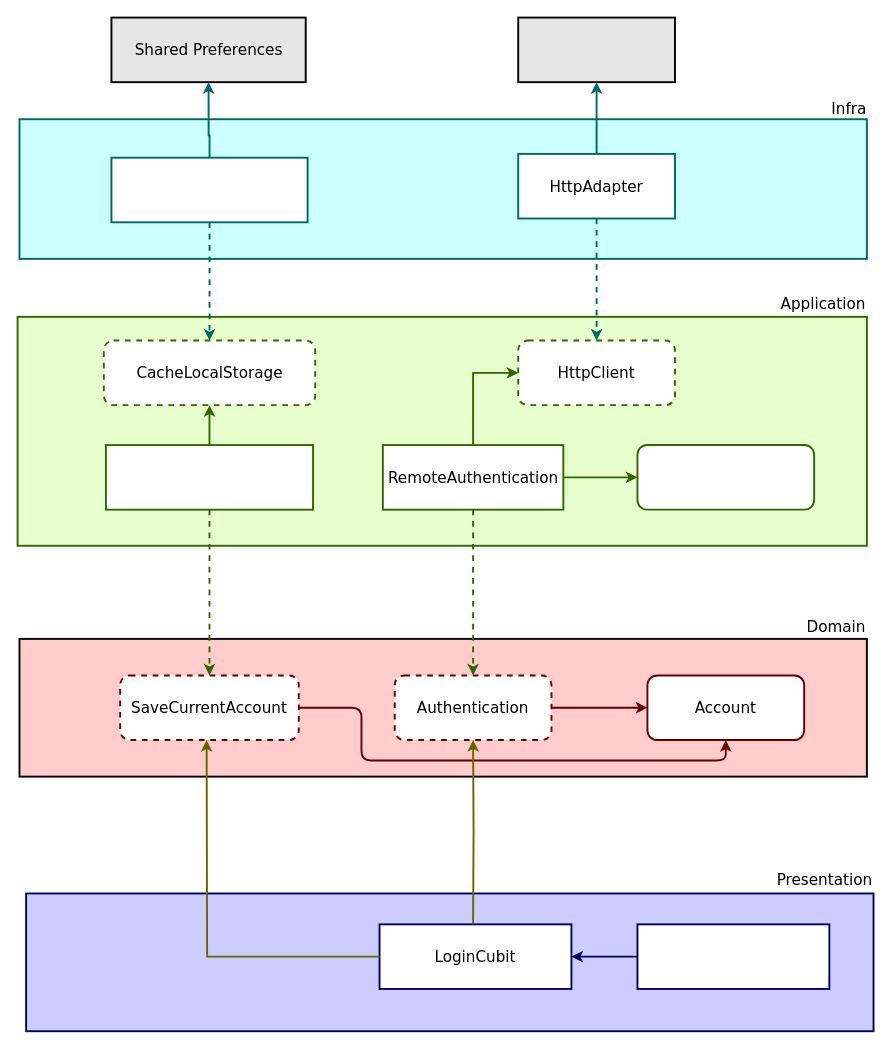
Some shapes in this 890 by 1048 pixel diagram are drawn without their labels. The shapes that lost their labels are listed below. From the top down, each one's centre as x and y in pixels, then its label:
At point (596, 49): "Http".
At point (209, 189): "LocalStorageAdapter".
At point (209, 477): "LocalSaveCurrentAccount".
At point (725, 477): "AccountModel".
At point (733, 956): "LoginPage".
